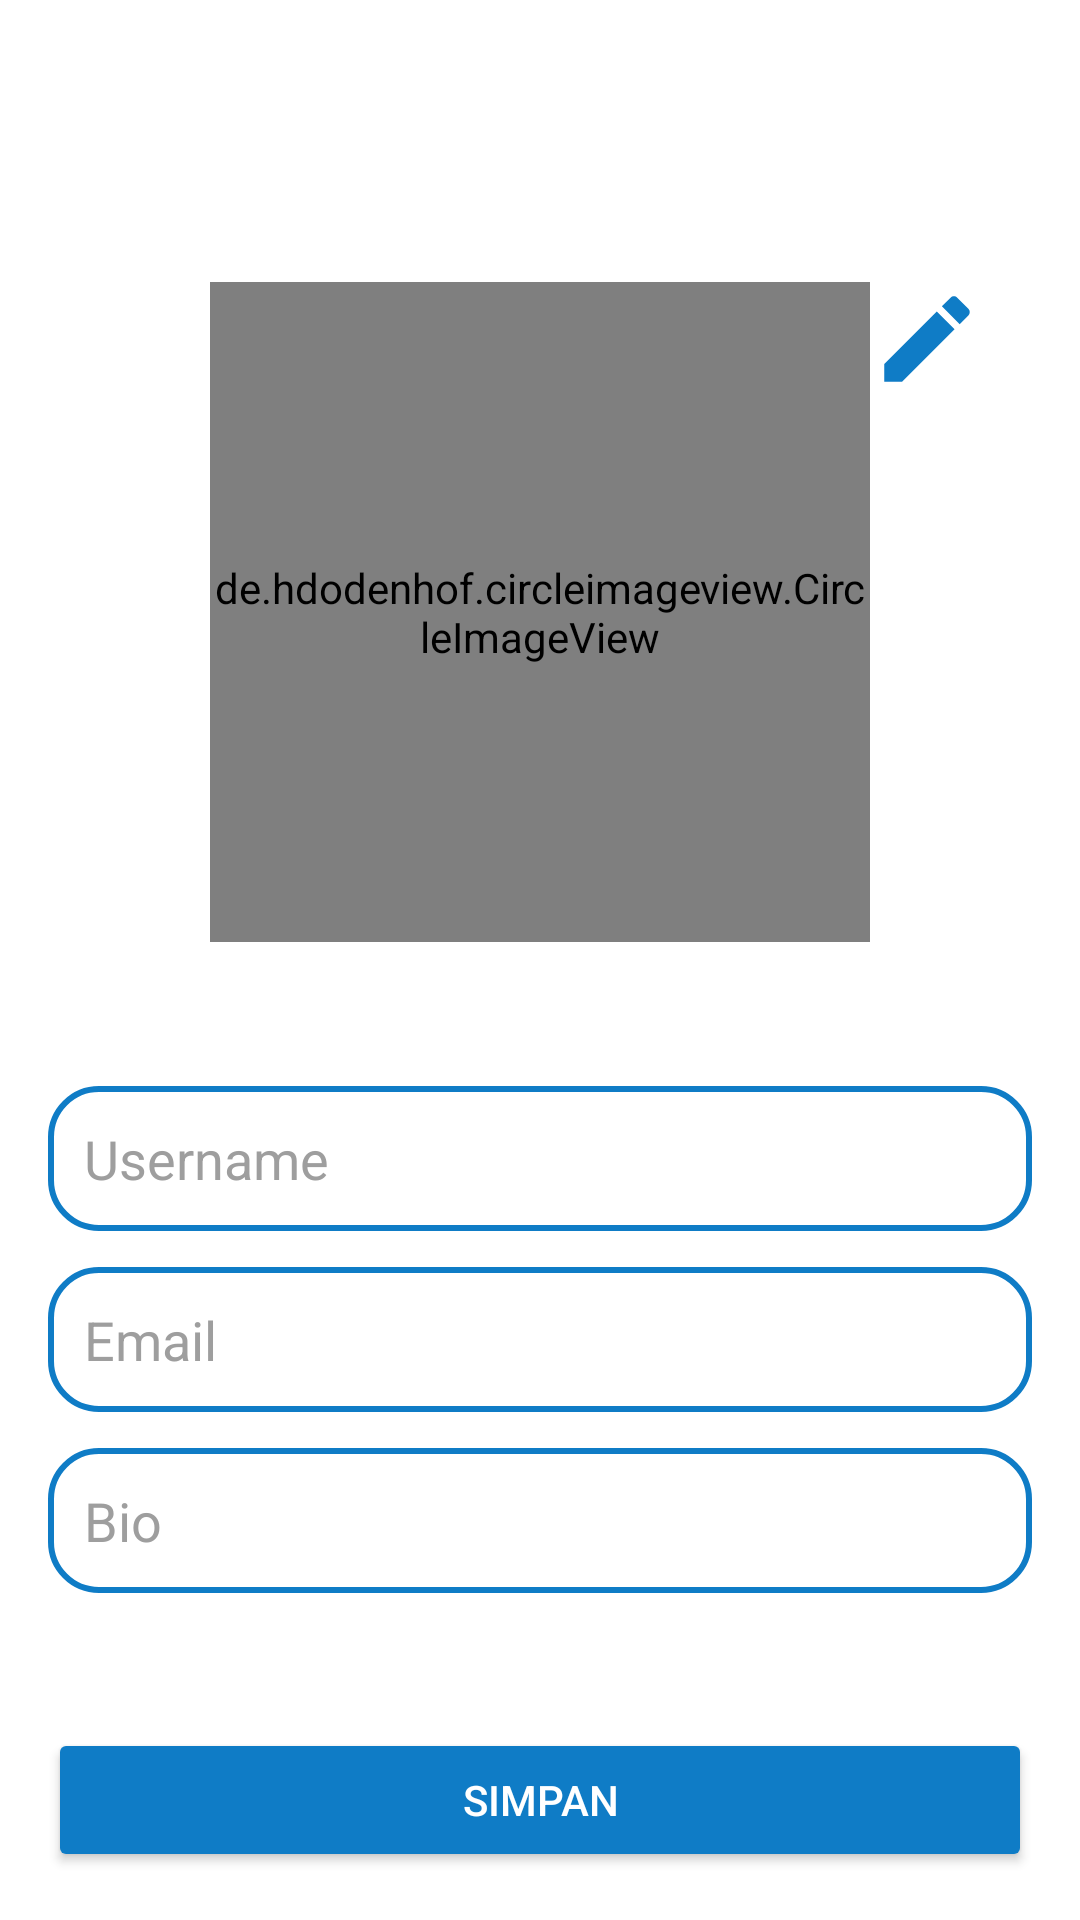

Point at icon controls on the screen. Image size 1080 x 1920, points as point (x, y).
edit: point (927, 339)
